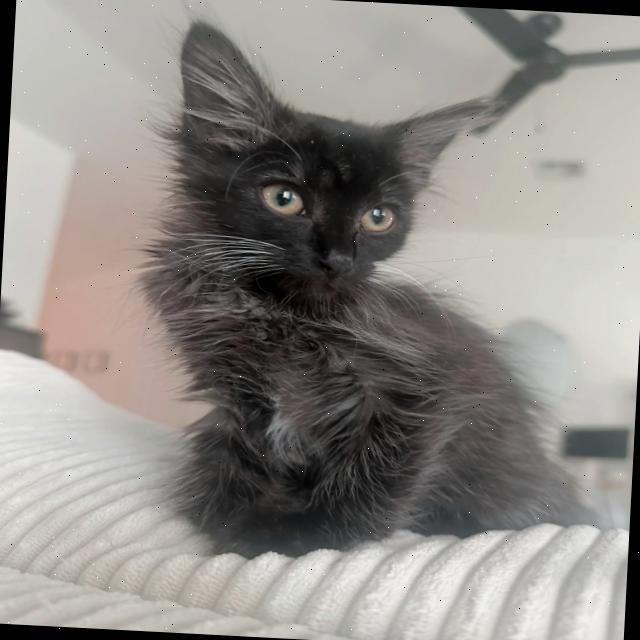domestic_long_hair_cat: (124, 11, 512, 353)
